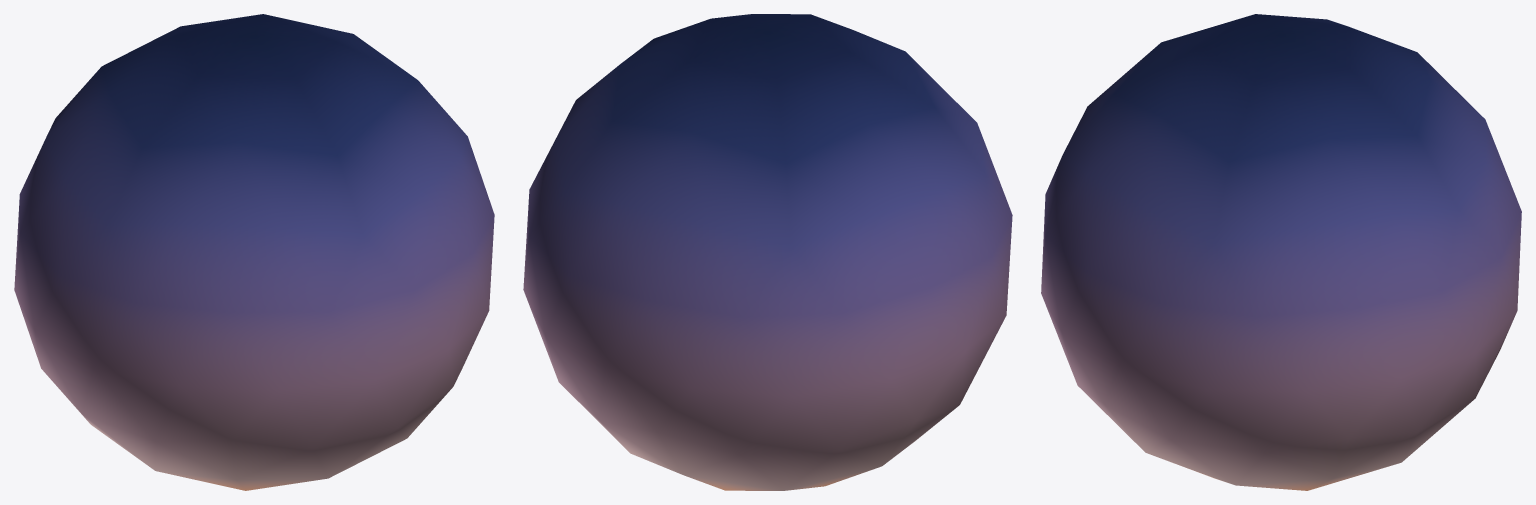
File: SkyDome3.dae
3 renders of one model, left to right at view 1: azimuth 30°, elevation 25°; view 2: azimuth 150°, elevation 25°; view 3: azimuth 270°, elevation 25°, orthographic.
Visible parts, largest first — view 1: F3:GeoDome1-0; view 2: F3:GeoDome1-0; view 3: F3:GeoDome1-0.
Boxes of the visible parts, box(x1,y1,x2,y2) form: F3:GeoDome1-0: box(14, 14, 494, 490); F3:GeoDome1-0: box(523, 14, 1012, 490); F3:GeoDome1-0: box(1041, 14, 1521, 490).
Bounding box in the file's own units: 25 × 25 × 25.
